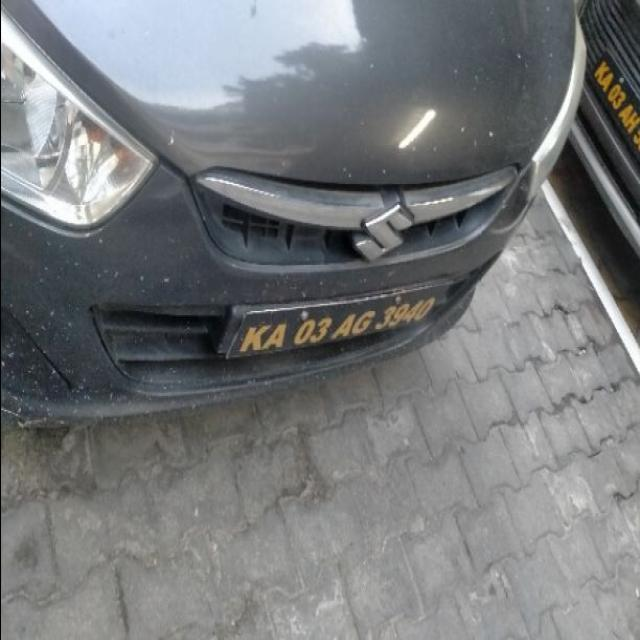license_plate: (0, 0, 589, 427), (224, 287, 439, 361)
